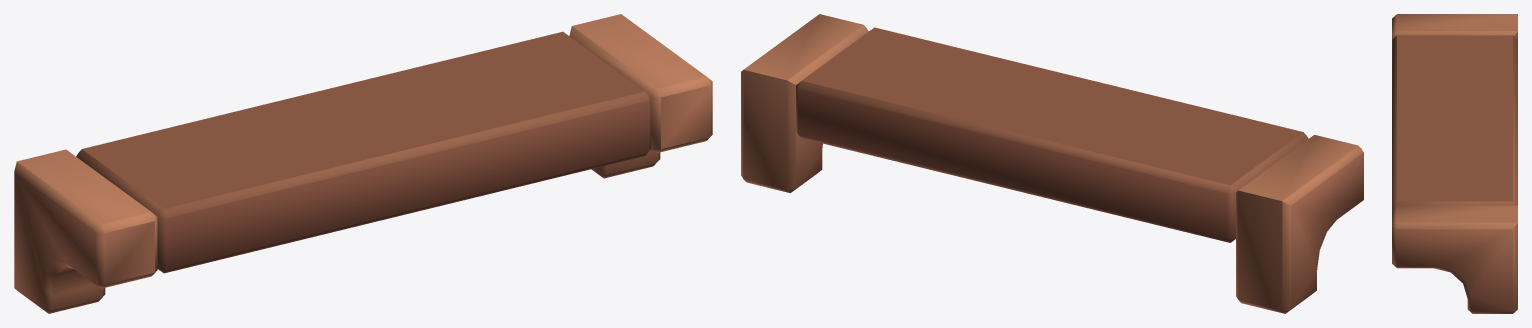
Rendered from shelf-a-big.glb.
The picture shows the model from 3 angles, left to right: view 1: azimuth 30°, elevation 25°; view 2: azimuth 150°, elevation 25°; view 3: azimuth 270°, elevation 25°; orthographic projection. The views are drawn at different scales.
Visible parts, largest first — view 1: shelf_A_big; view 2: shelf_A_big; view 3: shelf_A_big.
Boxes of the visible parts, x1,y1,x2,y2 form: shelf_A_big: (14, 14, 712, 313); shelf_A_big: (741, 14, 1363, 313); shelf_A_big: (1392, 14, 1517, 313).
Bounding box in the file's own units: 2 × 0.4 × 0.5.
